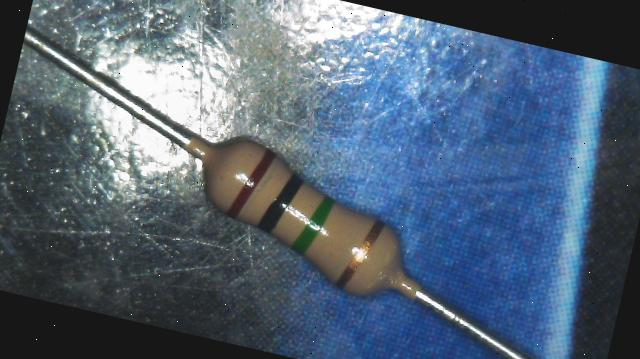black: (258, 168, 305, 238)
brown: (224, 143, 276, 224)
gold: (336, 214, 384, 292)
green: (290, 190, 336, 260)
resistor: (169, 102, 453, 340)
